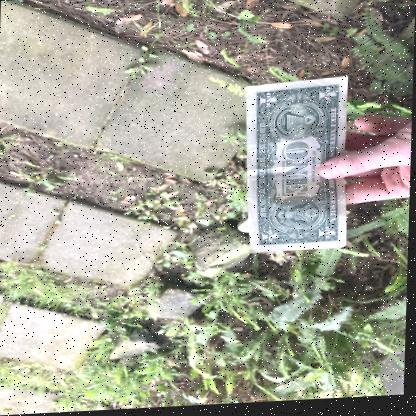one-back: (243, 73, 349, 252)
